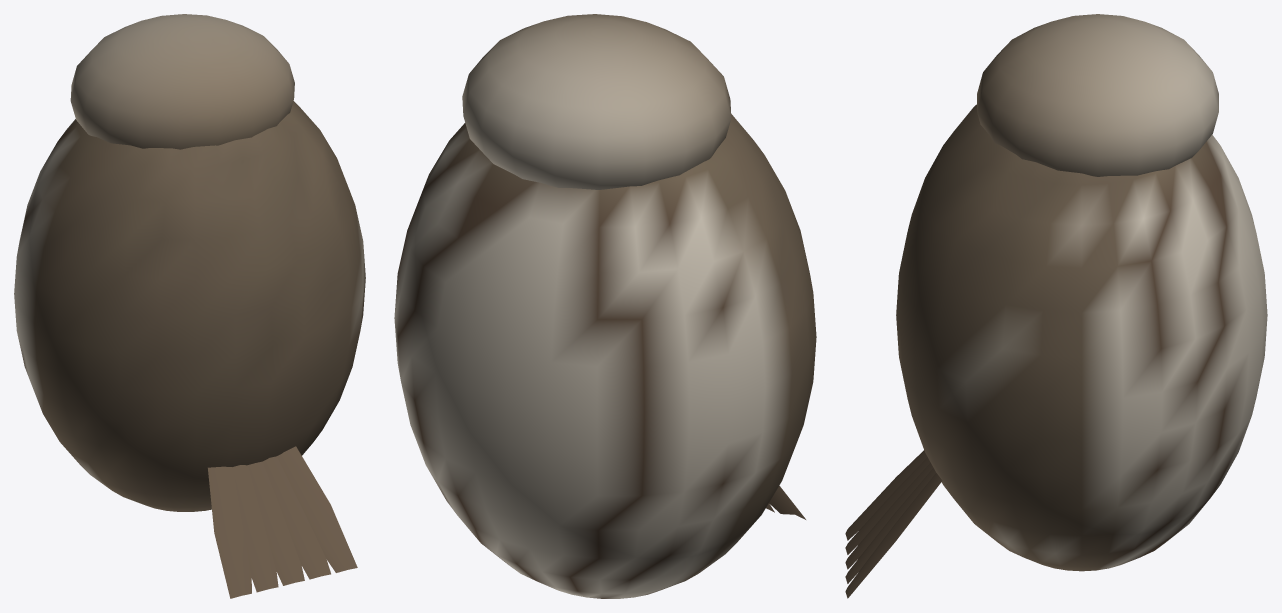
File: Fukurou_Body.fbx
The picture shows the model from 3 angles, left to right: view 1: azimuth 30°, elevation 25°; view 2: azimuth 150°, elevation 25°; view 3: azimuth 270°, elevation 25°; orthographic projection. The views are drawn at different scales.
Visible parts, largest first — view 1: Fukurou_Body; view 2: Fukurou_Body; view 3: Fukurou_Body.
Part boxes in pixels (x1,y1,x2,y2): Fukurou_Body: [14, 14, 365, 598]; Fukurou_Body: [394, 14, 816, 598]; Fukurou_Body: [845, 14, 1267, 598].
Bounding box in the file's own units: 10 × 14.52 × 10.46.
